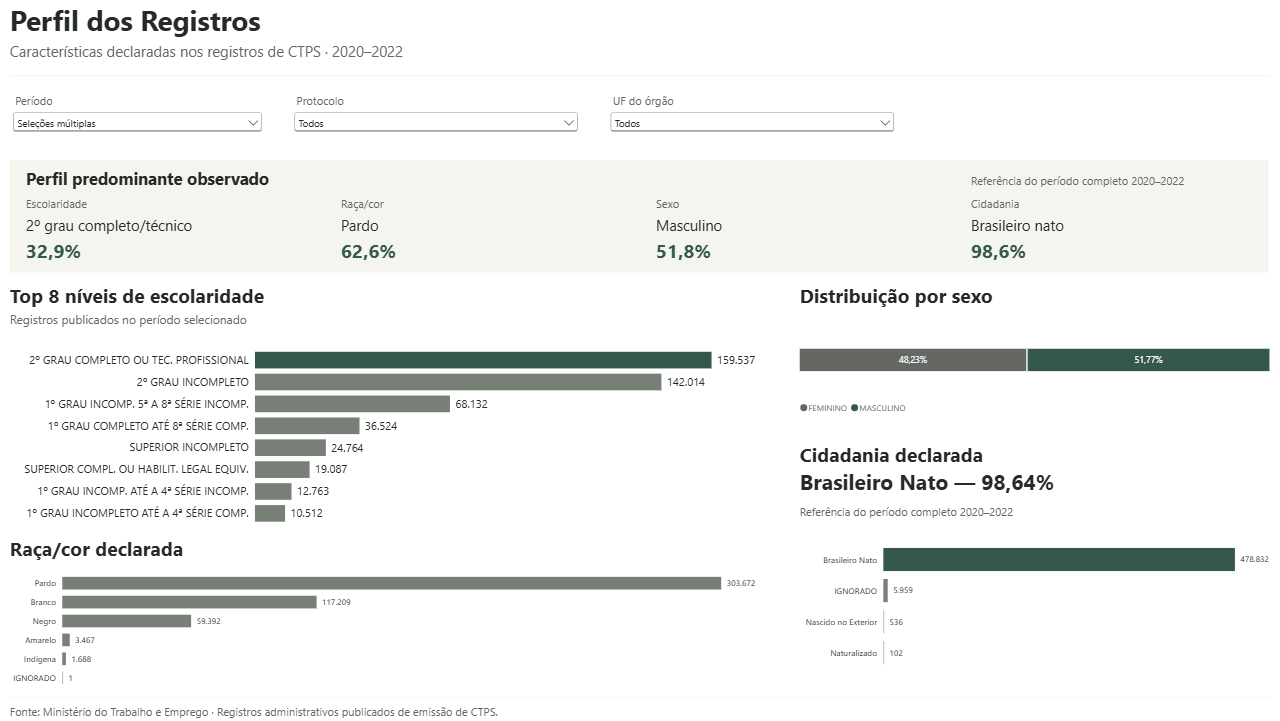

The dashboard page shown, as its layout file describes it:
{"tool":"powerbi","page":{"name":"Perfil dos Registros","canvas":[1920,1080],"ordinal":1},"visuals":[{"type":"textbox","box":[48,30,1500,62],"z":0},{"type":"shape","box":[48,137,1824,1],"z":1000},{"type":"shape","box":[48.9,260.6,1822.3,162.9],"z":2000},{"type":"shape","box":[48,1038,1824,1],"z":3000},{"type":"textbox","box":[72,313,426,25],"z":4000},{"type":"textbox","box":[1440.5,278.7,407.2,27.1],"z":5000},{"type":"textbox","box":[1192.6,705.8,678.6,50.7],"z":6000},{"type":"textbox","box":[48,804,1080,38],"z":7000},{"type":"textbox","box":[1192,759,680,27],"z":8000},{"type":"textbox","box":[984.5,372.8,425.3,50.7],"z":9000},{"type":"textbox","box":[48,438,1080,38],"z":10000},{"type":"textbox","box":[528,341,426,29],"z":11000},{"type":"textbox","box":[48,480,1080,28],"z":12000},{"type":"textbox","box":[1192,438,680,38],"z":13000},{"type":"textbox","box":[72,341,426,29],"z":14000},{"type":"textbox","box":[1440,313,426,25],"z":15000},{"type":"textbox","box":[48,1047,1824,27],"z":16000},{"type":"textbox","box":[984,341,426,29],"z":17000},{"type":"textbox","box":[72.4,372.8,425.3,50.7],"z":18000},{"type":"textbox","box":[984,313,426,25],"z":19000},{"type":"textbox","box":[1440,341,426,29],"z":20000},{"type":"textbox","box":[1440.5,372.8,425.3,50.7],"z":21000},{"type":"textbox","box":[528.4,372.8,425.3,50.7],"z":22000},{"type":"textbox","box":[528,313,426,25],"z":23000},{"type":"textbox","box":[1192,668,680,38],"z":24000},{"type":"textbox","box":[72,272,950,34],"z":25000},{"type":"textbox","box":[48,88,1600,38],"z":26000},{"type":"slicer","fields":{"Values":["Calendario.Ano"]},"box":[48,163,370,72],"z":27000},{"type":"slicer","fields":{"Values":["ctps_emissoes.Tipo Protocolo"]},"box":[456,163,420,72],"z":28000},{"type":"slicer","fields":{"Values":["ctps_emissoes.Sigla UF Órgão"]},"box":[914,163,420,72],"z":29000},{"type":"clusteredBarChart","fields":{"Category":["ctps_emissoes.Nível Escolaridade"],"Y":["ctps_emissoes.Registros publicados"]},"box":[48,518,1080,280],"z":30000},{"type":"hundredPercentStackedBarChart","fields":{"Series":["ctps_emissoes.Sexo"],"Y":["ctps_emissoes.Registros publicados"]},"box":[1192,488,680,144],"z":31000},{"type":"clusteredBarChart","fields":{"Category":["ctps_emissoes.Raça e Cor"],"Y":["ctps_emissoes.Registros publicados"]},"box":[48,846,1080,186],"z":32000},{"type":"clusteredBarChart","fields":{"Category":["ctps_emissoes.Tipo Cidadania"],"Y":["ctps_emissoes.Registros publicados"]},"box":[1192,796,680,214],"z":33000}]}

Visuals, with their boxes in screenshot pixels (x1, y1, x2, y2), scaled from the page's 1920x1080 canvas onto the 1280x721 screenshot:
textbox: <region>32, 20, 1032, 61</region>
shape: <region>32, 91, 1248, 92</region>
shape: <region>33, 174, 1247, 283</region>
shape: <region>32, 693, 1248, 694</region>
textbox: <region>48, 209, 332, 226</region>
textbox: <region>960, 186, 1232, 204</region>
textbox: <region>795, 471, 1247, 505</region>
textbox: <region>32, 537, 752, 562</region>
textbox: <region>795, 507, 1248, 525</region>
textbox: <region>656, 249, 940, 283</region>
textbox: <region>32, 292, 752, 318</region>
textbox: <region>352, 228, 636, 247</region>
textbox: <region>32, 320, 752, 339</region>
textbox: <region>795, 292, 1248, 318</region>
textbox: <region>48, 228, 332, 247</region>
textbox: <region>960, 209, 1244, 226</region>
textbox: <region>32, 699, 1248, 717</region>
textbox: <region>656, 228, 940, 247</region>
textbox: <region>48, 249, 332, 283</region>
textbox: <region>656, 209, 940, 226</region>
textbox: <region>960, 228, 1244, 247</region>
textbox: <region>960, 249, 1244, 283</region>
textbox: <region>352, 249, 636, 283</region>
textbox: <region>352, 209, 636, 226</region>
textbox: <region>795, 446, 1248, 471</region>
textbox: <region>48, 182, 681, 204</region>
textbox: <region>32, 59, 1099, 84</region>
slicer - Calendario.Ano: <region>32, 109, 279, 157</region>
slicer - ctps_emissoes.Tipo Protocolo: <region>304, 109, 584, 157</region>
slicer - ctps_emissoes.Sigla UF Órgão: <region>609, 109, 889, 157</region>
clusteredBarChart - ctps_emissoes.Nível Escolaridade x ctps_emissoes.Registros publicados: <region>32, 346, 752, 533</region>
hundredPercentStackedBarChart - ctps_emissoes.Sexo x ctps_emissoes.Registros publicados: <region>795, 326, 1248, 422</region>
clusteredBarChart - ctps_emissoes.Raça e Cor x ctps_emissoes.Registros publicados: <region>32, 565, 752, 689</region>
clusteredBarChart - ctps_emissoes.Tipo Cidadania x ctps_emissoes.Registros publicados: <region>795, 531, 1248, 674</region>
